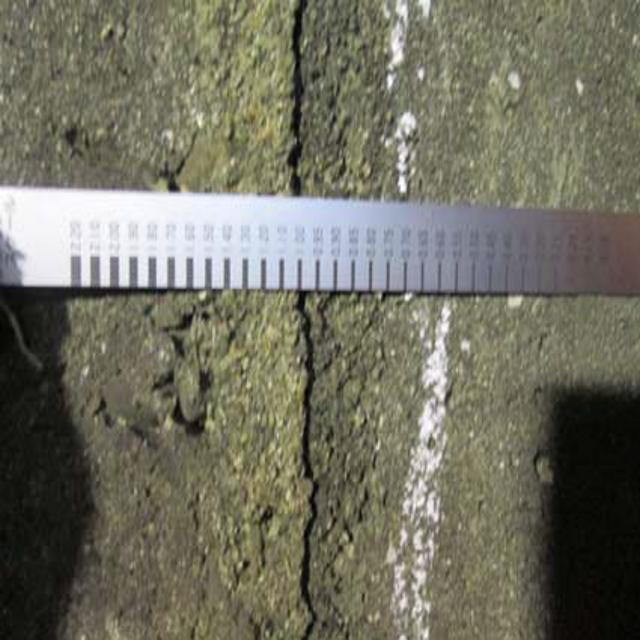crack: (272, 301, 337, 640), (276, 3, 331, 213)
